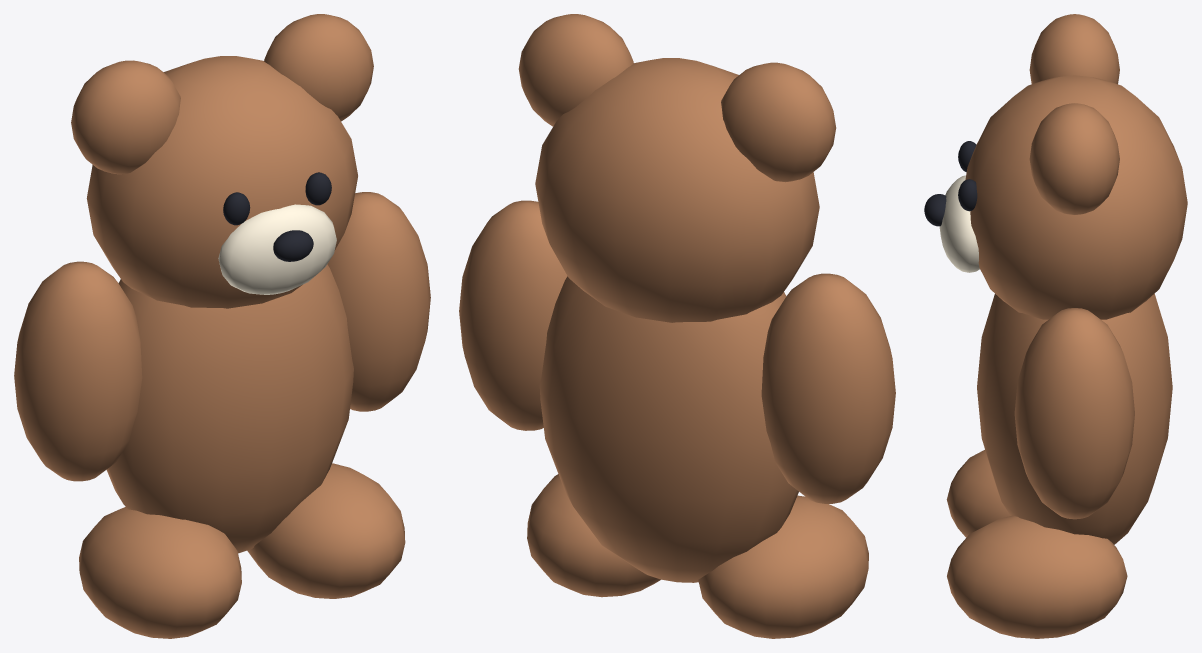
The model's file is word-teddy-bear.glb.
The picture shows the model from 3 angles, left to right: view 1: azimuth 30°, elevation 25°; view 2: azimuth 150°, elevation 25°; view 3: azimuth 270°, elevation 25°; orthographic projection. The views are drawn at different scales.
Visible parts, largest first — view 1: bear tummy, bear head, bear arm, bear foot, bear arm.001, bear foot.001, bear ear, bear ear.001, bear muzzle, bear nose, bear eye, bear eye.001; view 2: bear tummy, bear head, bear arm, bear arm.001, bear foot, bear ear, bear ear.001, bear foot.001; view 3: bear head, bear arm.001, bear tummy, bear foot.001, bear ear.001, bear ear, bear foot, bear muzzle, bear nose, bear eye.001.
Part boxes in pixels (left/top/right/bottom): bear tummy: left=106, top=264, right=353, bottom=553; bear head: left=86, top=56, right=357, bottom=308; bear arm: left=14, top=261, right=142, bottom=481; bear foot: left=79, top=507, right=241, bottom=638; bear arm.001: left=327, top=192, right=430, bottom=411; bear foot.001: left=247, top=463, right=405, bottom=598; bear ear: left=71, top=60, right=180, bottom=174; bear ear.001: left=264, top=14, right=373, bottom=121; bear muzzle: left=218, top=204, right=336, bottom=294; bear nose: left=273, top=230, right=313, bottom=261; bear eye: left=223, top=192, right=250, bottom=225; bear eye.001: left=305, top=172, right=331, bottom=205; bear tummy: left=539, top=276, right=798, bottom=582; bear head: left=535, top=58, right=819, bottom=322; bear arm: left=761, top=273, right=895, bottom=503; bear arm.001: left=459, top=200, right=567, bottom=430; bear foot: left=698, top=495, right=868, bottom=638; bear ear: left=721, top=62, right=836, bottom=182; bear ear.001: left=518, top=14, right=633, bottom=126; bear foot.001: left=527, top=474, right=660, bottom=597; bear head: left=965, top=75, right=1187, bottom=319; bear arm.001: left=1014, top=308, right=1134, bottom=519; bear tummy: left=977, top=294, right=1172, bottom=544; bear foot.001: left=947, top=515, right=1127, bottom=638; bear ear.001: left=1029, top=103, right=1119, bottom=214; bear ear: left=1029, top=14, right=1119, bottom=84; bear foot: left=946, top=450, right=1010, bottom=537; bear muzzle: left=939, top=175, right=979, bottom=272; bear nose: left=924, top=194, right=946, bottom=226; bear eye.001: left=958, top=179, right=977, bottom=211.
Bounding box in the file's own units: 0.59 × 0.775 × 0.35.
